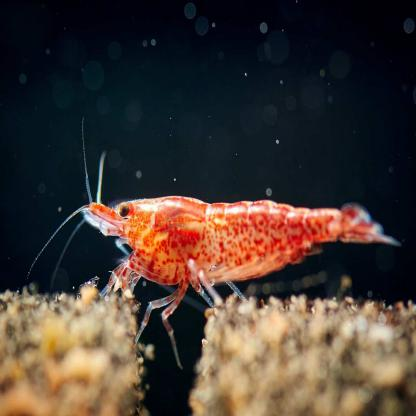shrimp: (78, 192, 410, 336)
